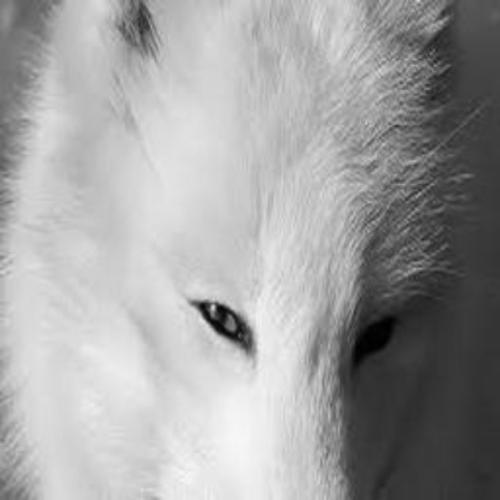arctic_fox-endangered: (18, 8, 486, 487)
